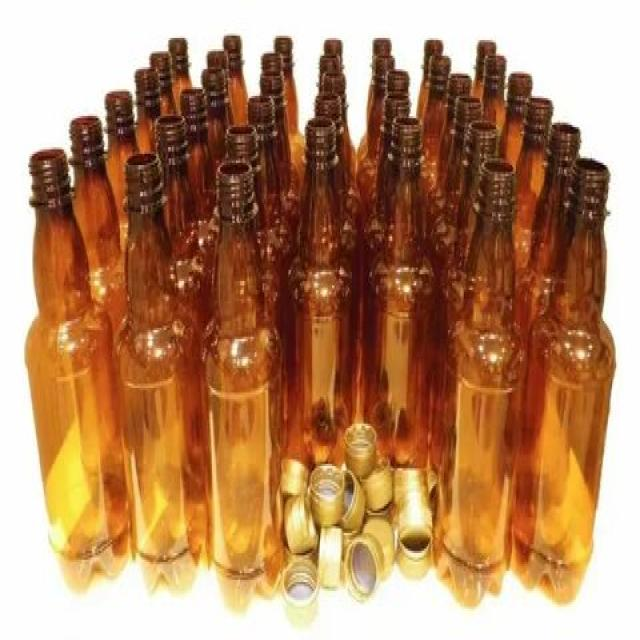brown: (24, 147, 133, 588), (514, 154, 616, 615), (115, 158, 204, 596), (203, 159, 285, 580), (442, 153, 515, 605), (358, 116, 439, 432), (288, 113, 348, 424)
